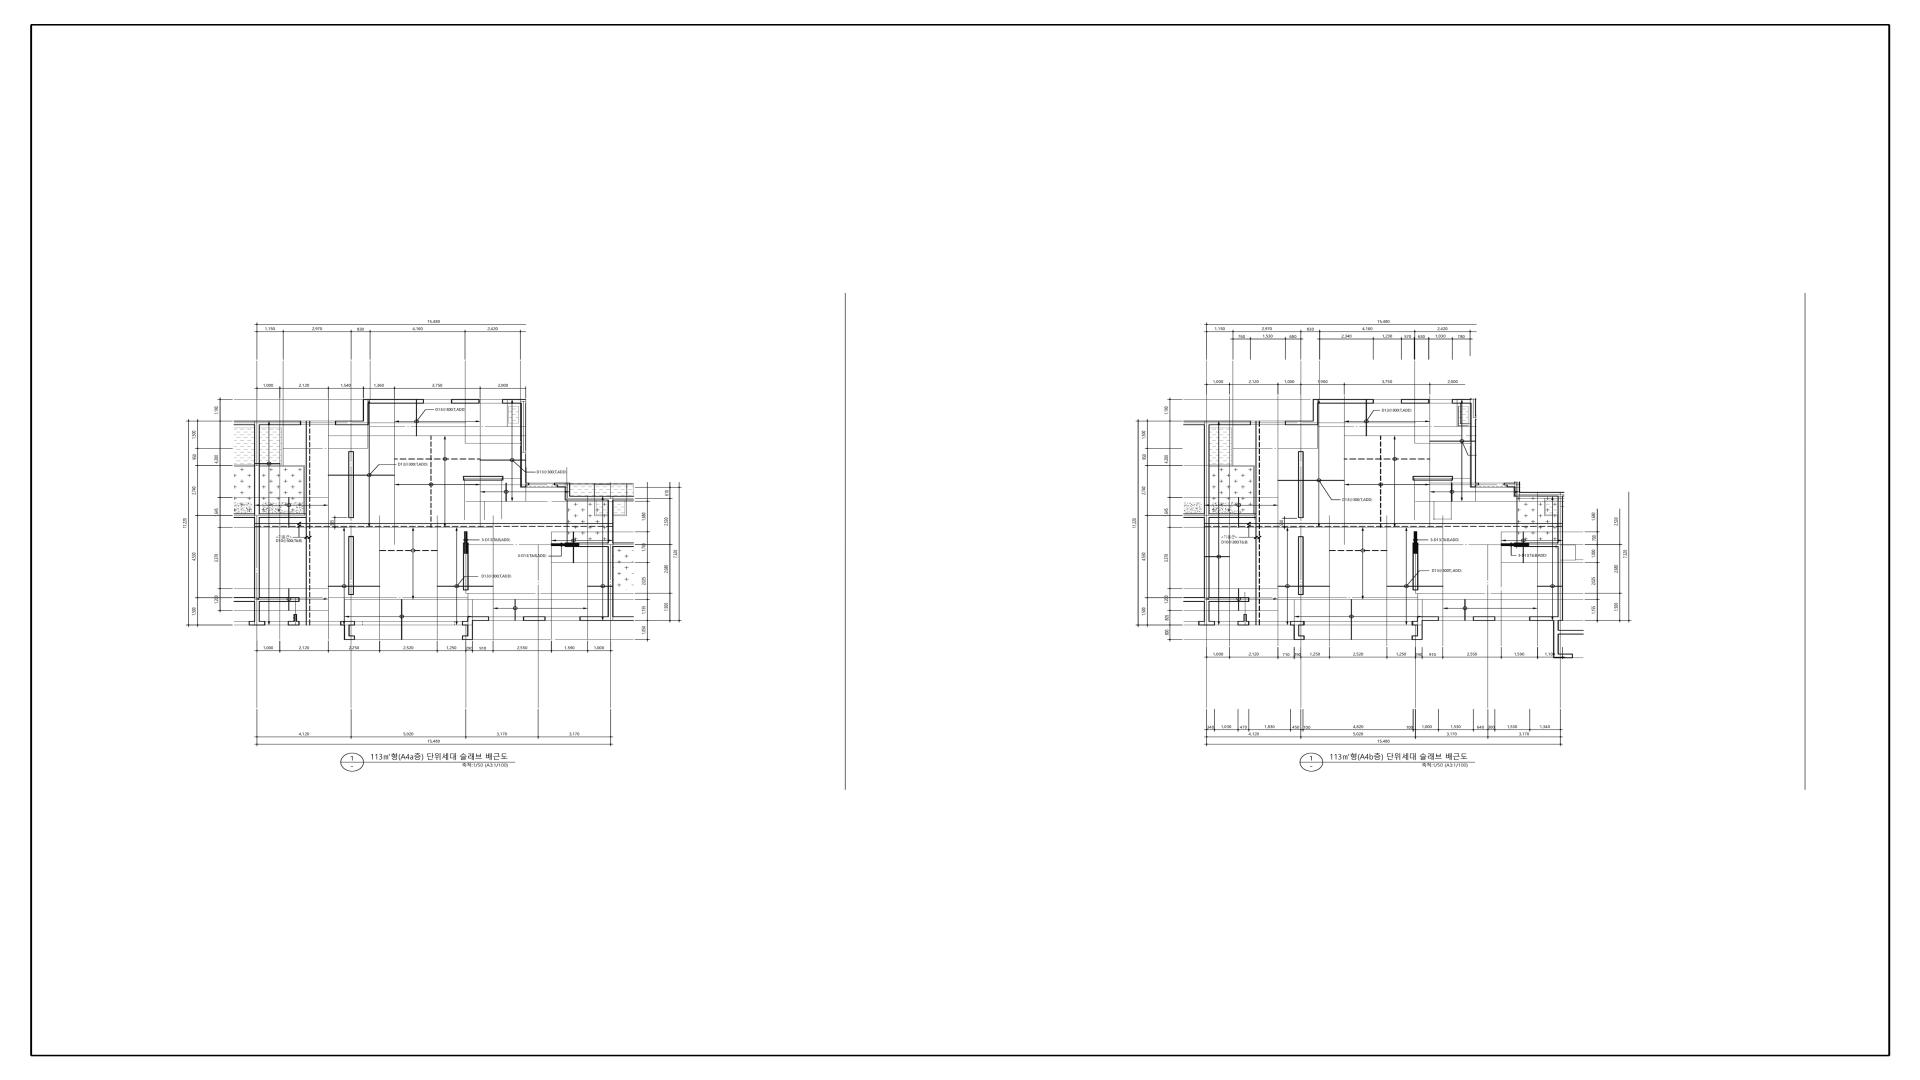wall: (310, 524, 613, 526), (1261, 524, 1563, 526), (1255, 421, 1261, 524), (1255, 526, 1261, 625), (1557, 526, 1563, 617), (255, 425, 260, 513), (1204, 425, 1209, 513), (1470, 398, 1476, 487), (1298, 451, 1304, 518), (521, 404, 526, 487), (306, 421, 310, 524), (306, 526, 310, 625), (1298, 537, 1304, 595), (255, 526, 260, 597), (1204, 526, 1209, 597), (608, 547, 613, 617), (348, 451, 353, 518), (348, 537, 353, 595), (260, 513, 306, 518), (1209, 513, 1255, 518), (1412, 554, 1419, 591), (369, 400, 425, 404), (1319, 400, 1374, 404), (463, 476, 504, 481), (260, 597, 299, 603), (1209, 597, 1249, 603), (463, 554, 468, 591), (1520, 492, 1557, 497), (1553, 621, 1559, 658), (1209, 421, 1251, 425), (260, 421, 301, 425), (1412, 476, 1453, 480), (579, 542, 608, 547), (1528, 542, 1557, 547), (570, 496, 608, 500), (1204, 524, 1261, 526), (580, 616, 608, 621), (255, 524, 310, 526), (363, 400, 369, 421), (1312, 400, 1319, 421), (1557, 497, 1563, 524), (335, 421, 369, 425), (1284, 421, 1319, 425), (608, 500, 613, 524), (467, 621, 473, 640), (467, 616, 489, 621), (451, 400, 480, 404), (613, 496, 634, 501), (613, 616, 634, 621), (613, 542, 634, 547), (233, 513, 255, 518), (1183, 597, 1204, 603), (1183, 513, 1204, 518), (1402, 400, 1429, 404), (255, 601, 260, 621), (1559, 630, 1584, 634), (1418, 621, 1423, 640), (1204, 603, 1209, 621), (1514, 481, 1520, 496), (502, 400, 526, 404), (1530, 617, 1553, 621), (564, 483, 570, 500), (524, 617, 546, 621), (1473, 617, 1495, 621), (233, 421, 255, 425), (608, 526, 613, 542), (233, 597, 255, 601), (1183, 421, 1204, 425), (1418, 617, 1439, 621), (1412, 542, 1419, 554), (344, 625, 349, 640), (1514, 542, 1528, 547), (1452, 400, 1470, 404), (463, 542, 468, 554), (249, 621, 265, 625), (1199, 621, 1215, 625), (564, 543, 579, 547), (340, 621, 355, 625), (1559, 654, 1573, 658), (1290, 621, 1304, 625), (1294, 625, 1299, 636), (464, 531, 468, 543), (287, 621, 299, 625), (554, 483, 564, 487), (1503, 483, 1514, 487), (1414, 531, 1418, 542), (1294, 636, 1304, 640), (1238, 621, 1249, 625), (1553, 617, 1563, 621), (551, 543, 564, 546), (1557, 492, 1564, 497), (1501, 543, 1514, 546), (608, 616, 613, 621), (608, 542, 613, 547), (255, 518, 260, 524), (255, 513, 260, 518), (255, 597, 260, 603), (1204, 597, 1209, 603), (1204, 518, 1209, 524), (1204, 513, 1209, 518), (1244, 615, 1247, 621), (255, 421, 260, 425), (608, 496, 613, 500), (462, 621, 467, 625), (462, 636, 467, 640), (349, 636, 355, 640), (1204, 421, 1209, 425), (1412, 621, 1418, 625), (1412, 636, 1418, 640), (294, 615, 297, 621), (1476, 483, 1480, 485), (526, 483, 529, 485)
